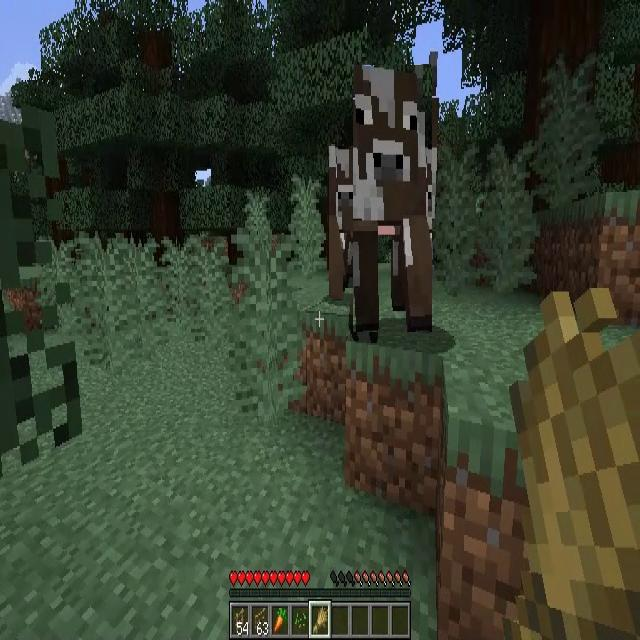cow: (353, 65, 432, 332), (329, 146, 366, 298)
